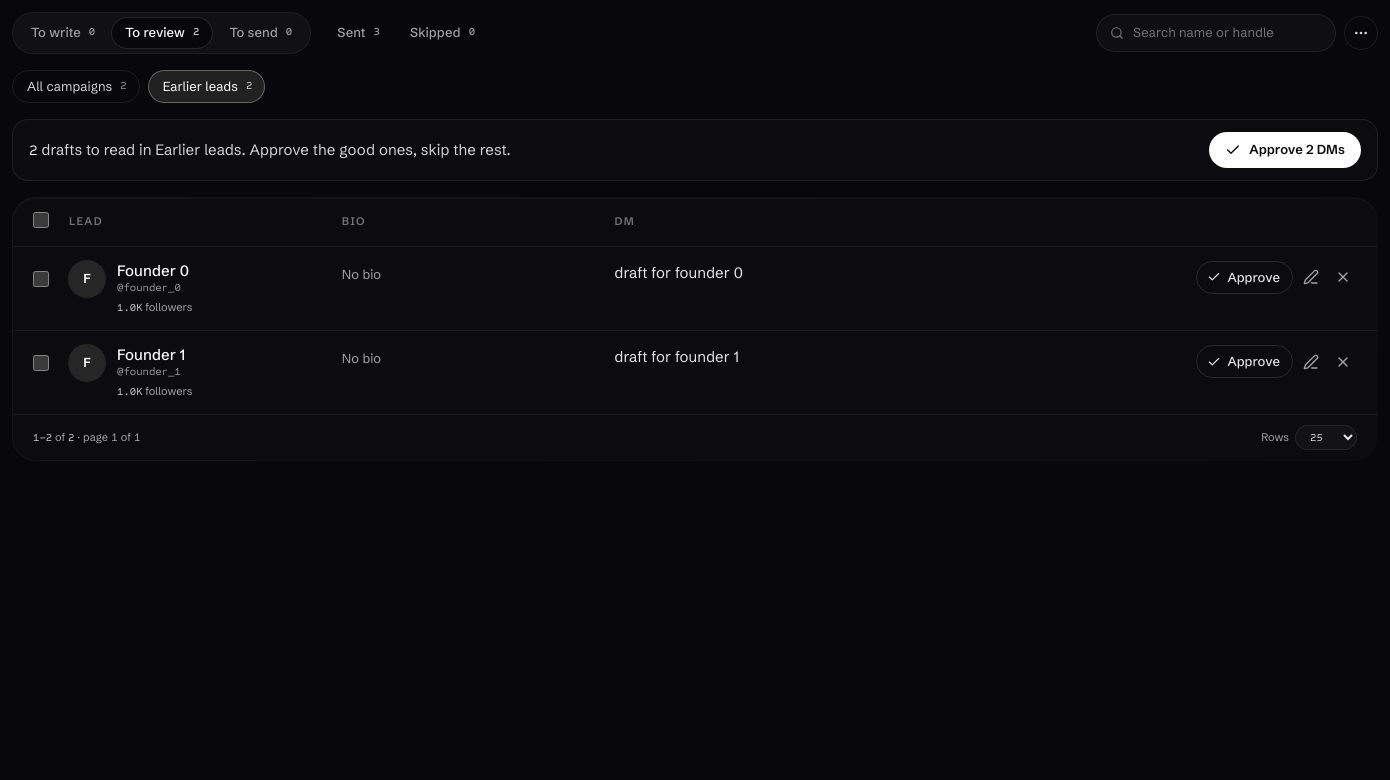
Scenario: ApprovalQueue campaigns › keeps sent leads out of the stages, in Sent
Click the tab "Sent 3".
click(359, 33)  # box [323,17,394,48]
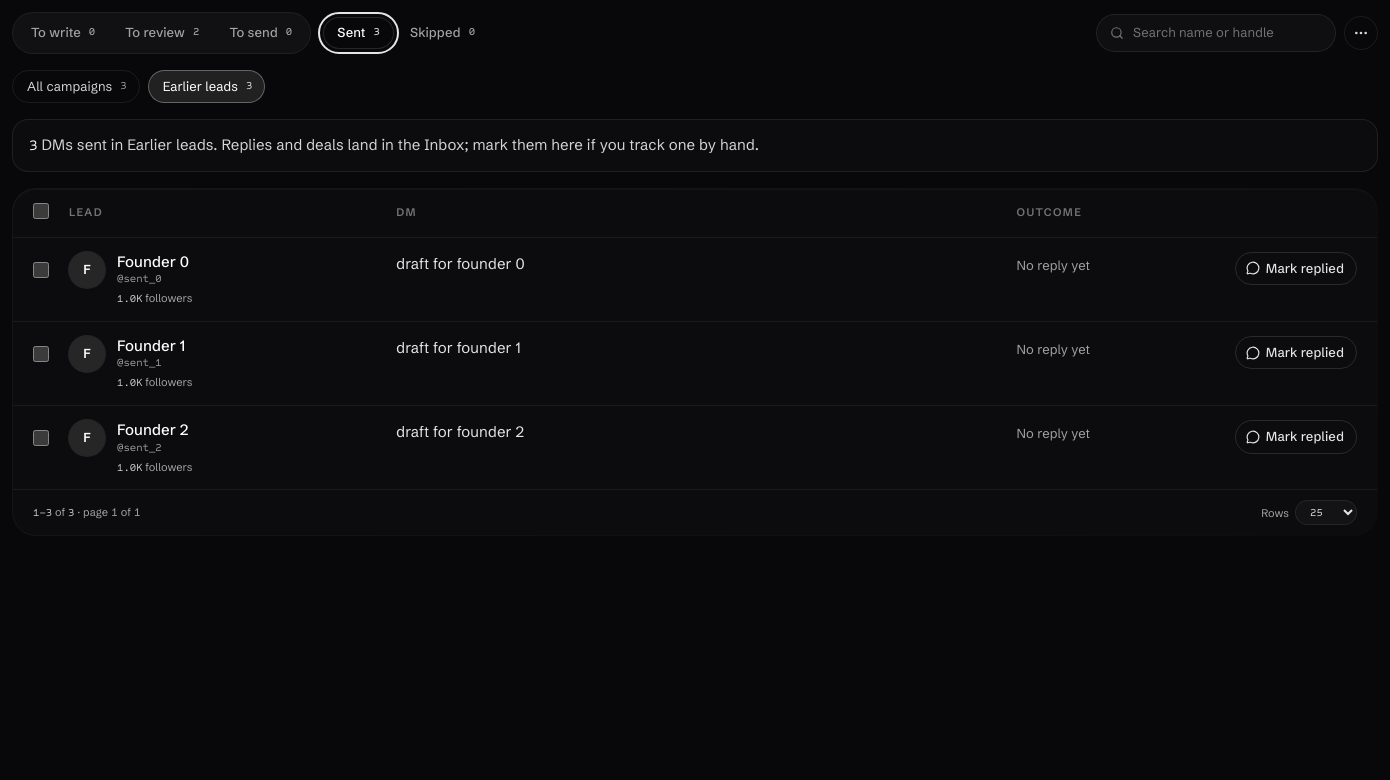
Result: the text "No reply yet" is shown 3 times at [1017,256,1090,275]; [1017,340,1090,359]; [1017,424,1090,444]
